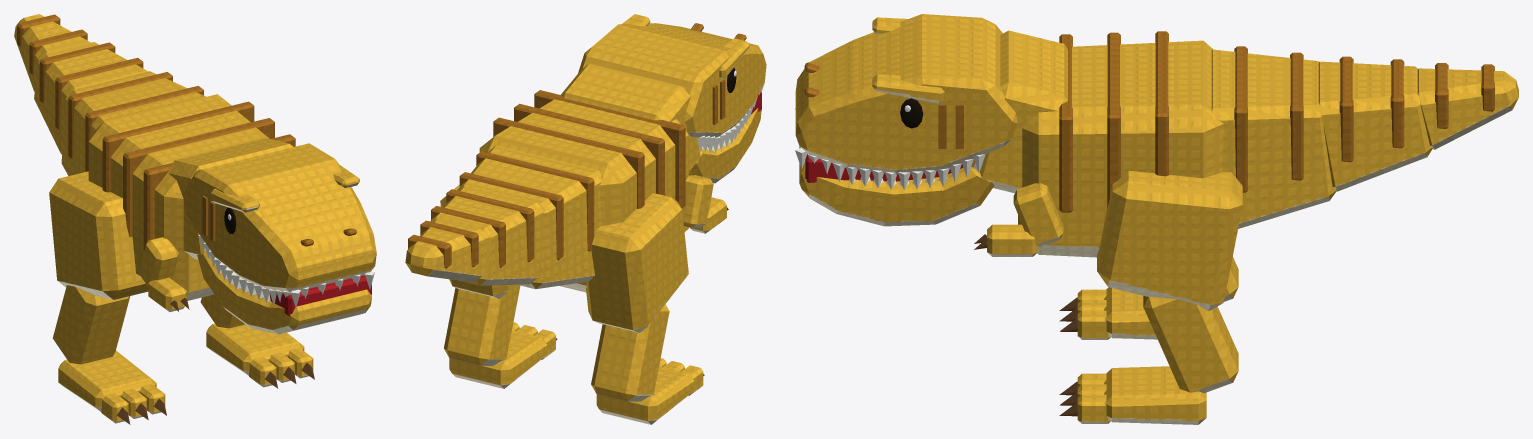
File: trex_blocs_or.glb
The picture shows the model from 3 angles, left to right: view 1: azimuth 30°, elevation 25°; view 2: azimuth 150°, elevation 25°; view 3: azimuth 270°, elevation 25°; orthographic projection. The views are drawn at different scales.
Visible parts, largest first — view 1: TRex; view 2: TRex; view 3: TRex.
Boxes of the visible parts, box(x1,y1,x2,y2) form: TRex: box(14, 14, 376, 424); TRex: box(405, 14, 766, 424); TRex: box(795, 14, 1518, 424).
Bounding box in the file's own units: 4.1 × 5.22 × 10.55.
1 material, 1 textured.
